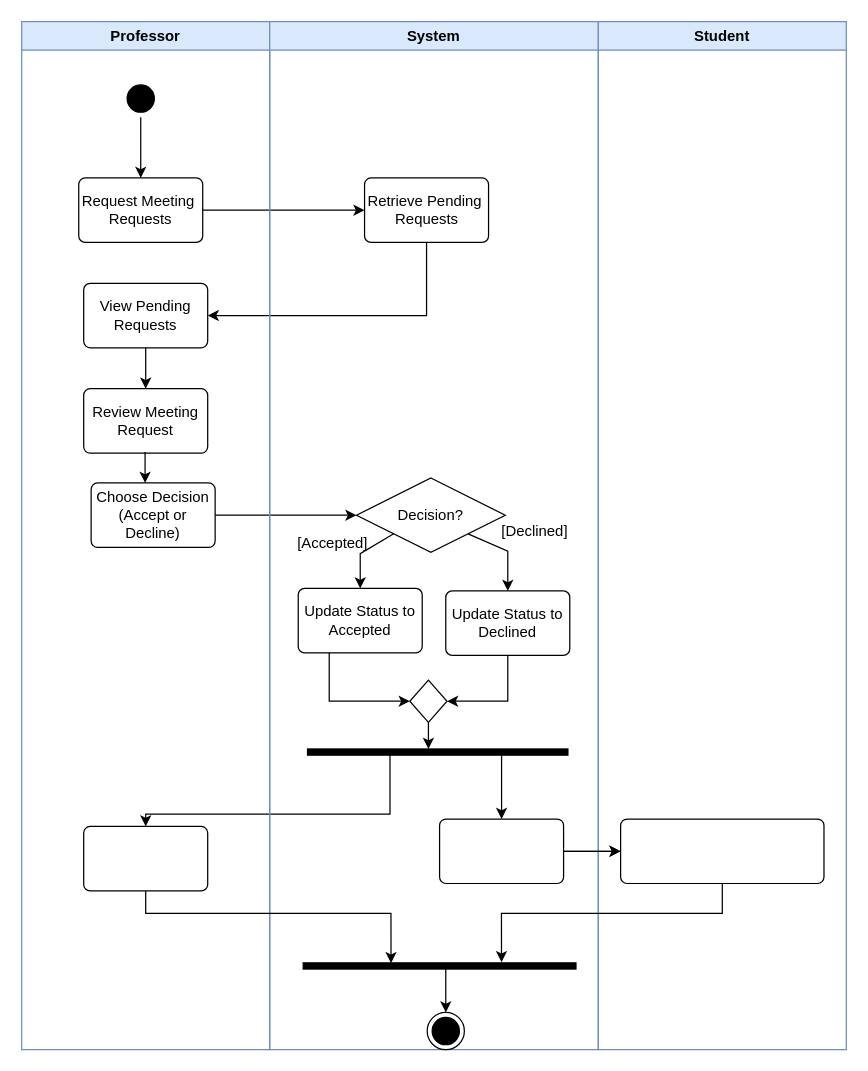
The diagram is 868 pixels wide and 1071 high, and some of its shapes have lost their labels. The centre of each missing label's shape, as x and y in pixels:
Receive Notification (Meeting Accepted/Declined): the point at 721,851
Send Notification to Student: the point at 501,851
View Decision Comfirmation: the point at 145,858
